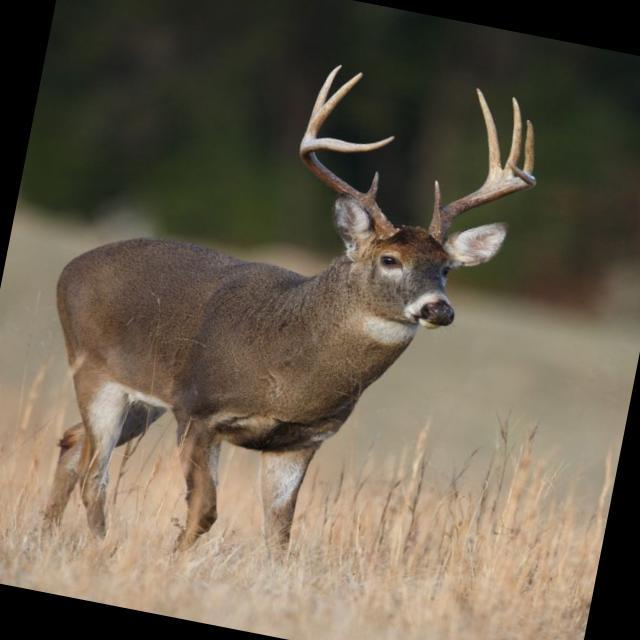L-F: (429, 160, 537, 243)
L-G1: (433, 180, 442, 215)
L-G3: (301, 72, 363, 145)
R-F: (299, 135, 397, 239)
R-G1: (367, 171, 380, 202)
R-G2: (475, 87, 504, 178)
